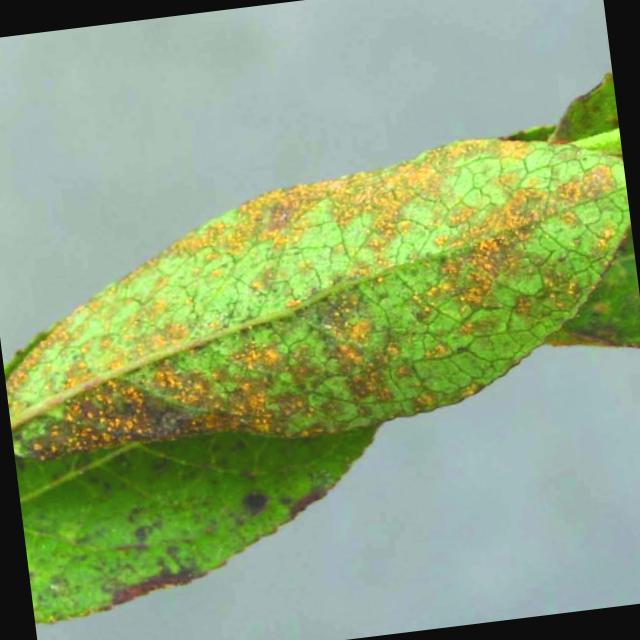leaf_rust: (6, 139, 630, 458)
